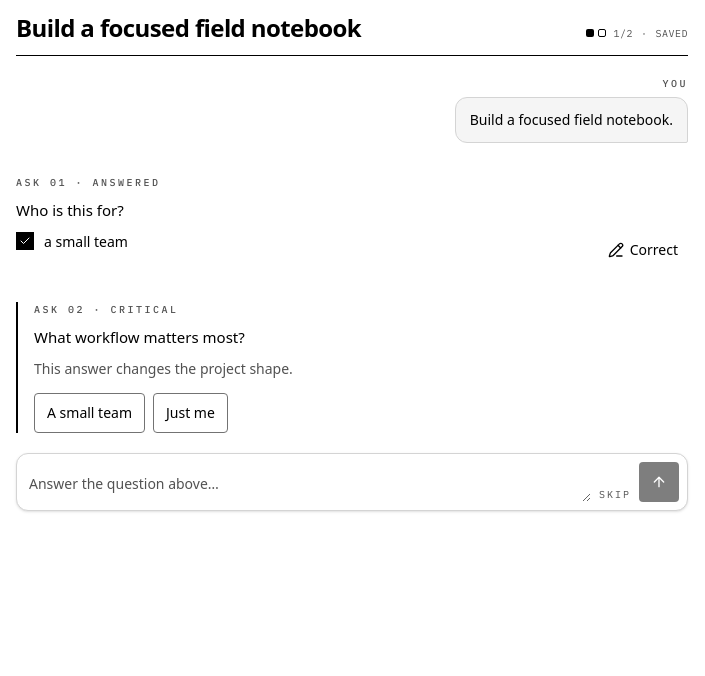
DiscoveryFlow › reloads the authoritative snapshot after a stale conflict
The width and height of the screenshot is (705, 676).
Type "A multilingual internal workflow" into the text box named "Your answer".
click(308, 484); type("A multilingual internal workflow")  # box left=25, top=466, right=591, bottom=502
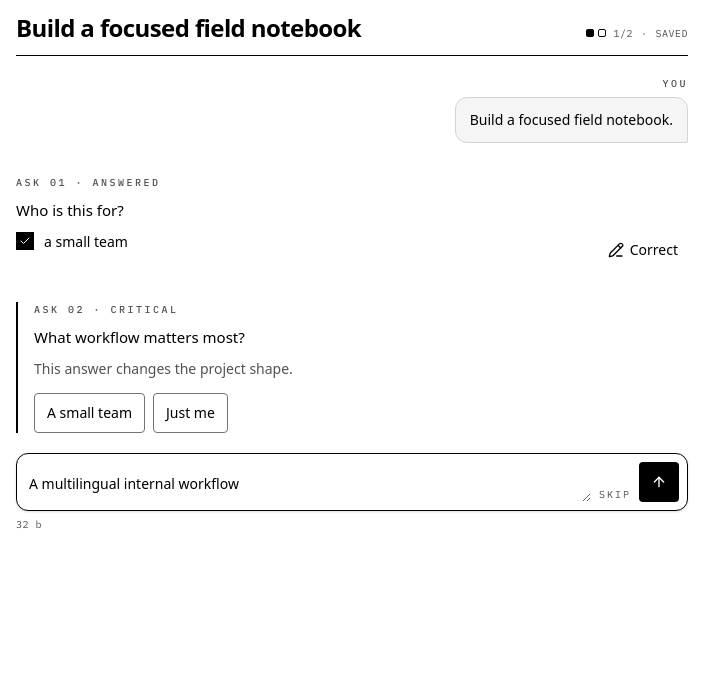
Click the button named "Send".
click(659, 482)  # box left=639, top=462, right=679, bottom=502
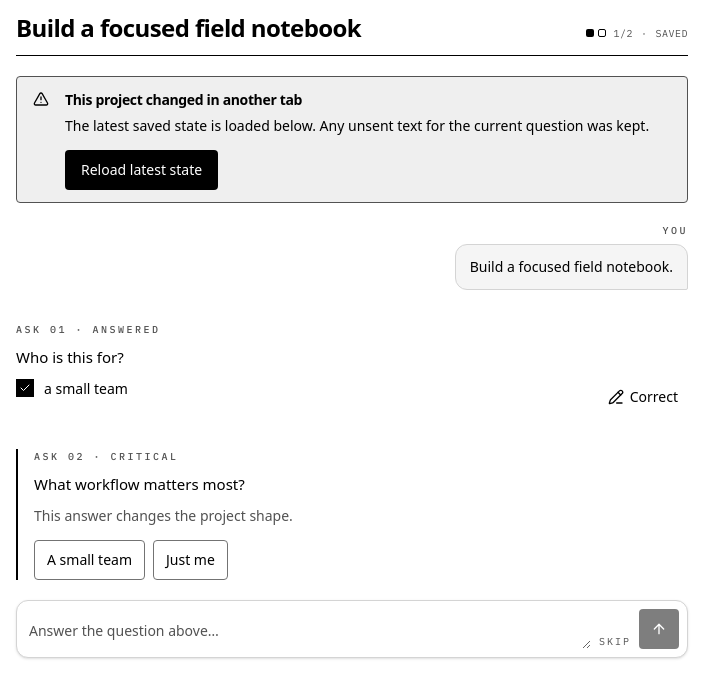
Result: the message shows "project changed" at left=65, top=90, right=302, bottom=109
